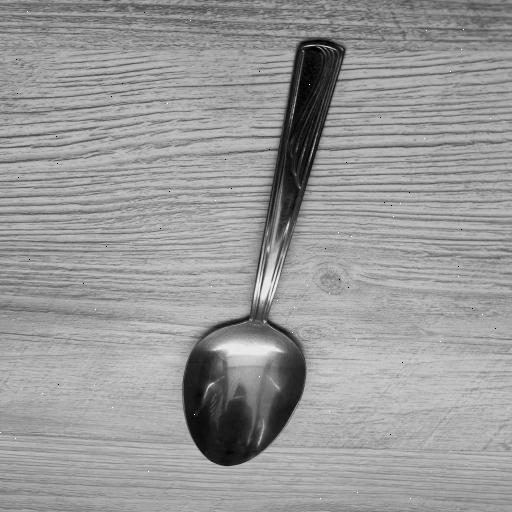spoon: (182, 38, 348, 469)
